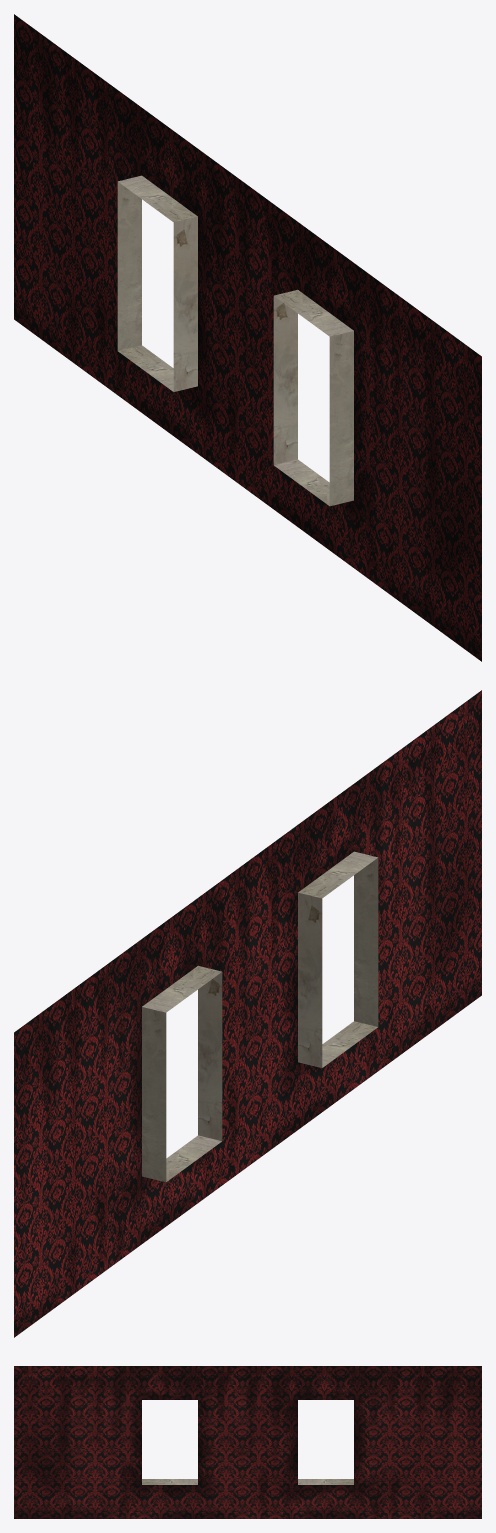
The model's file is Wall_windows.FBX.
The picture shows the model from 3 angles, top to bottom: view 1: azimuth 30°, elevation 25°; view 2: azimuth 150°, elevation 25°; view 3: azimuth 270°, elevation 25°; orthographic projection. The views are drawn at different scales.
Visible parts, largest first — view 1: Object003; view 2: Object003; view 3: Object003.
Part boxes in pixels (x1,y1,x2,y2): Object003: (14,14,481,661); Object003: (14,690,481,1337); Object003: (14,1366,481,1518).
Bounding box in the file's own units: 30 × 360 × 1000.
1 material, 1 textured.
